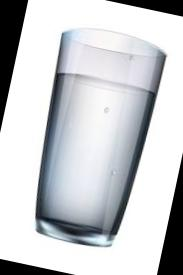glass: (0, 12, 175, 275)
